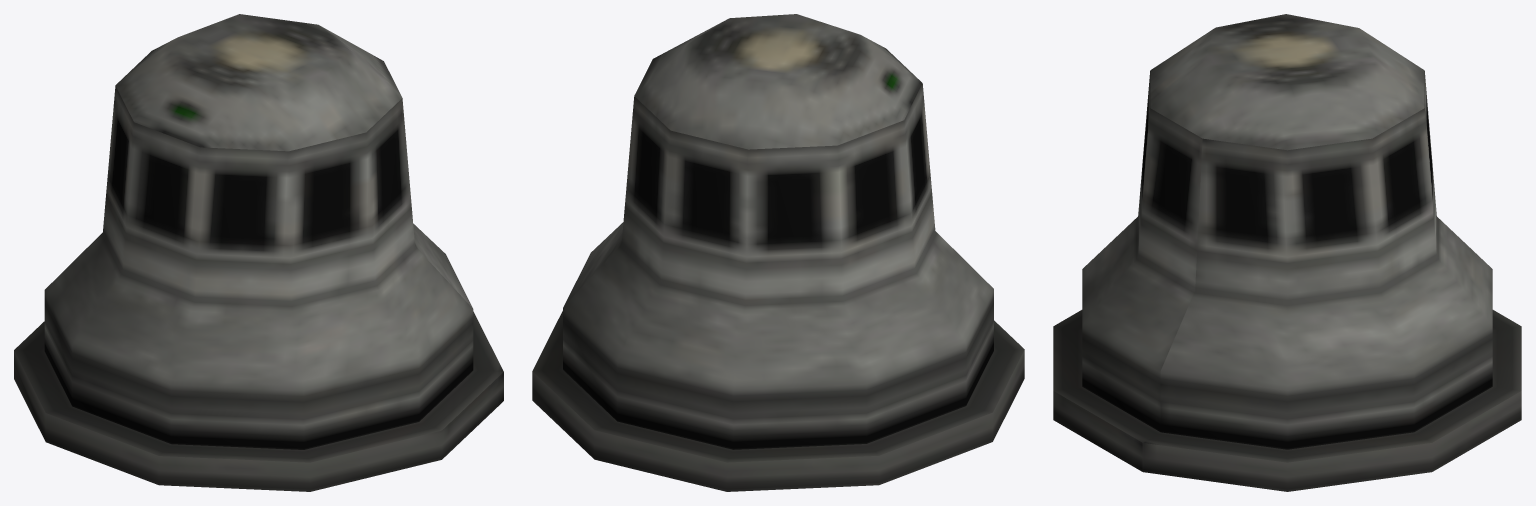
Rendered from p6_smoke_detector_lod1.glb.
3 renders of one model, left to right at view 1: azimuth 30°, elevation 25°; view 2: azimuth 150°, elevation 25°; view 3: azimuth 270°, elevation 25°, orthographic.
Visible parts, largest first — view 1: surf0; view 2: surf0; view 3: surf0.
Boxes of the visible parts, x1=… form: surf0: x1=14, y1=14, x2=503, y2=491; surf0: x1=532, y1=14, x2=1024, y2=491; surf0: x1=1053, y1=14, x2=1521, y2=491.
Bounding box in the file's own units: 9.71 × 7.35 × 9.23.
